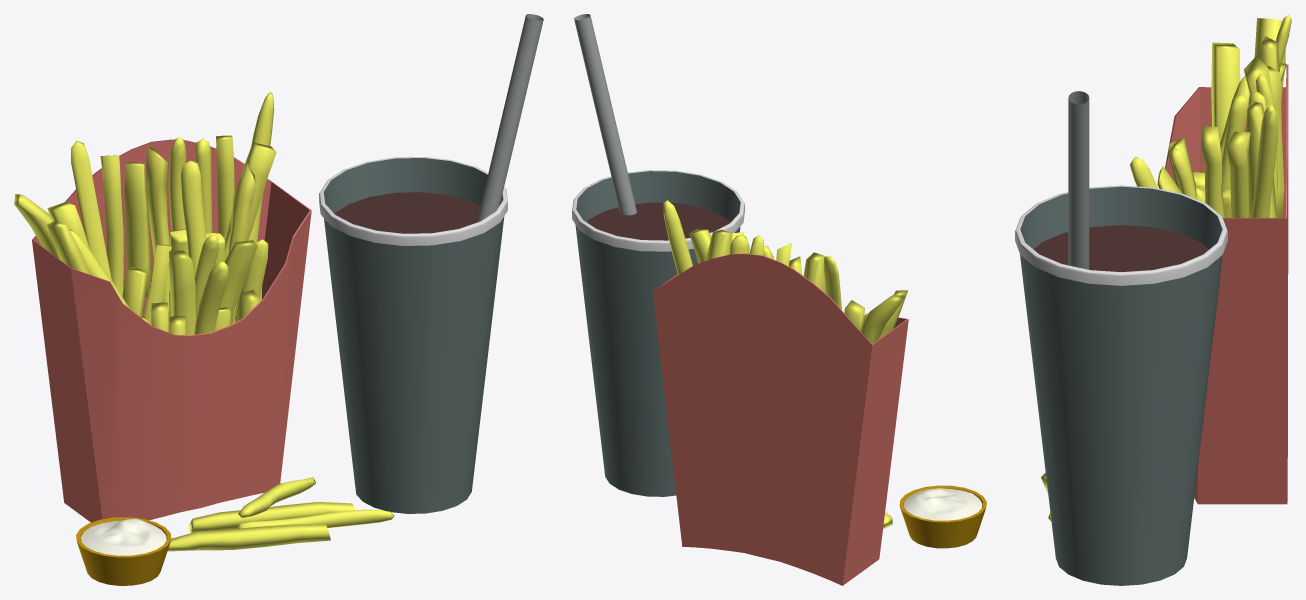
The model's file is Fries.fbx.
3 views of the same model, side by side, from view 1: azimuth 30°, elevation 25°; view 2: azimuth 150°, elevation 25°; view 3: azimuth 270°, elevation 25° (orthographic). The views are drawn at different scales.
Parts seen in each view (by area): view 1: French_Fries_packet_GEO, Coke_GEO, French_Fries_GEO, Jam_GEO; view 2: French_Fries_packet_GEO, Coke_GEO, French_Fries_GEO, Jam_GEO; view 3: Coke_GEO, French_Fries_packet_GEO, French_Fries_GEO.
Part boxes in pixels (x1,y1,x2,y2): French_Fries_packet_GEO: [32, 139, 311, 522]; Coke_GEO: [319, 14, 543, 513]; French_Fries_GEO: [14, 92, 394, 551]; Jam_GEO: [76, 517, 171, 585]; French_Fries_packet_GEO: [653, 253, 908, 585]; Coke_GEO: [572, 14, 744, 496]; French_Fries_GEO: [663, 200, 908, 528]; Jam_GEO: [899, 485, 986, 548]; Coke_GEO: [1015, 91, 1227, 585]; French_Fries_packet_GEO: [1165, 64, 1288, 504]; French_Fries_GEO: [1041, 14, 1291, 521].
Bounding box in the file's own units: 24.48 × 23.99 × 11.59.
